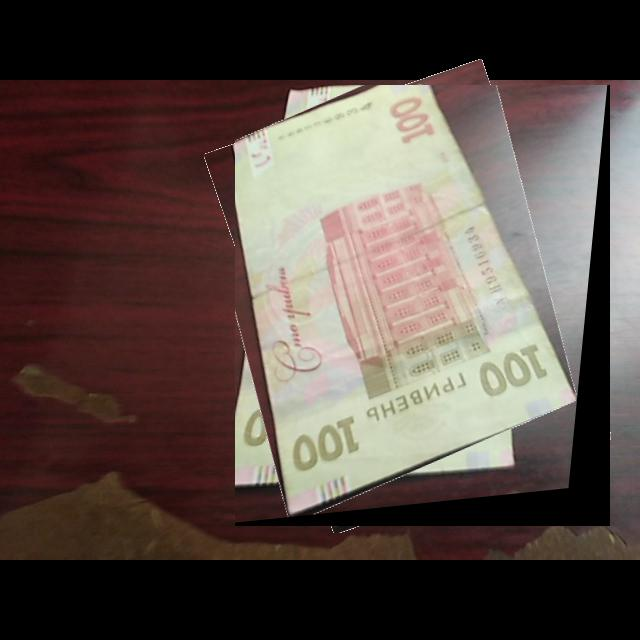100uah: (235, 85, 585, 519)
